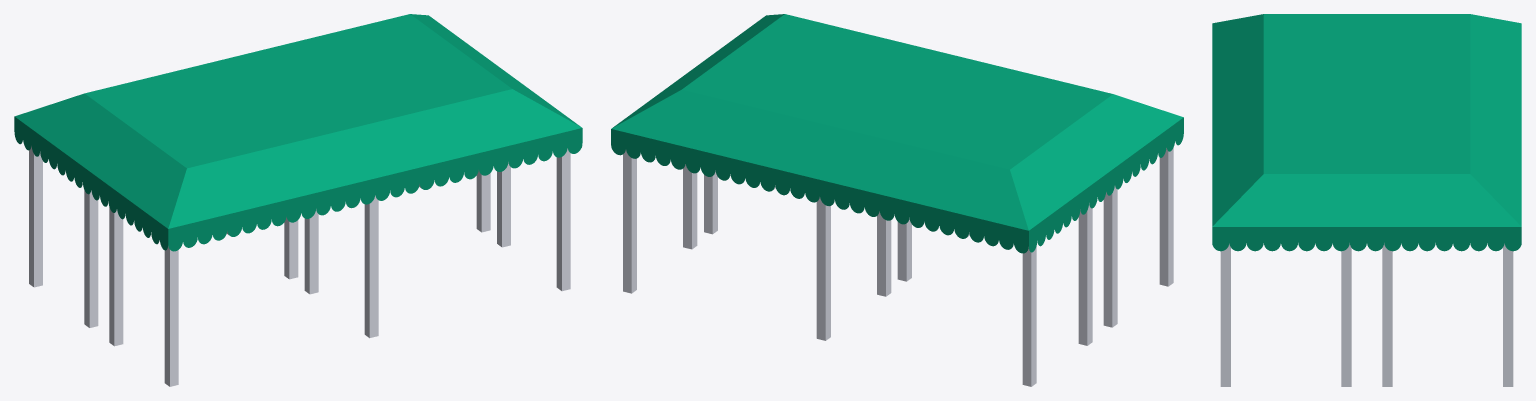
Rendered from tente.fbx.
The picture shows the model from 3 angles, left to right: view 1: azimuth 30°, elevation 25°; view 2: azimuth 150°, elevation 25°; view 3: azimuth 270°, elevation 25°; orthographic projection.
Visible parts, largest first — view 1: mergedBlocks; view 2: mergedBlocks; view 3: mergedBlocks.
Part boxes in pixels (left/top/right/bottom): mergedBlocks: left=14, top=14, right=582, bottom=386; mergedBlocks: left=611, top=14, right=1183, bottom=386; mergedBlocks: left=1212, top=14, right=1521, bottom=386.
Bounding box in the file's own units: 28 × 12.5 × 18.
